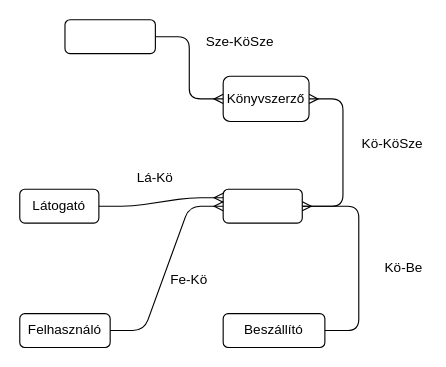
This 446x367 diagram has some shape labels left out. Each missing label, with the centre of its shape:
Könyv: point (262, 205)
Szerző: point (109, 36)
